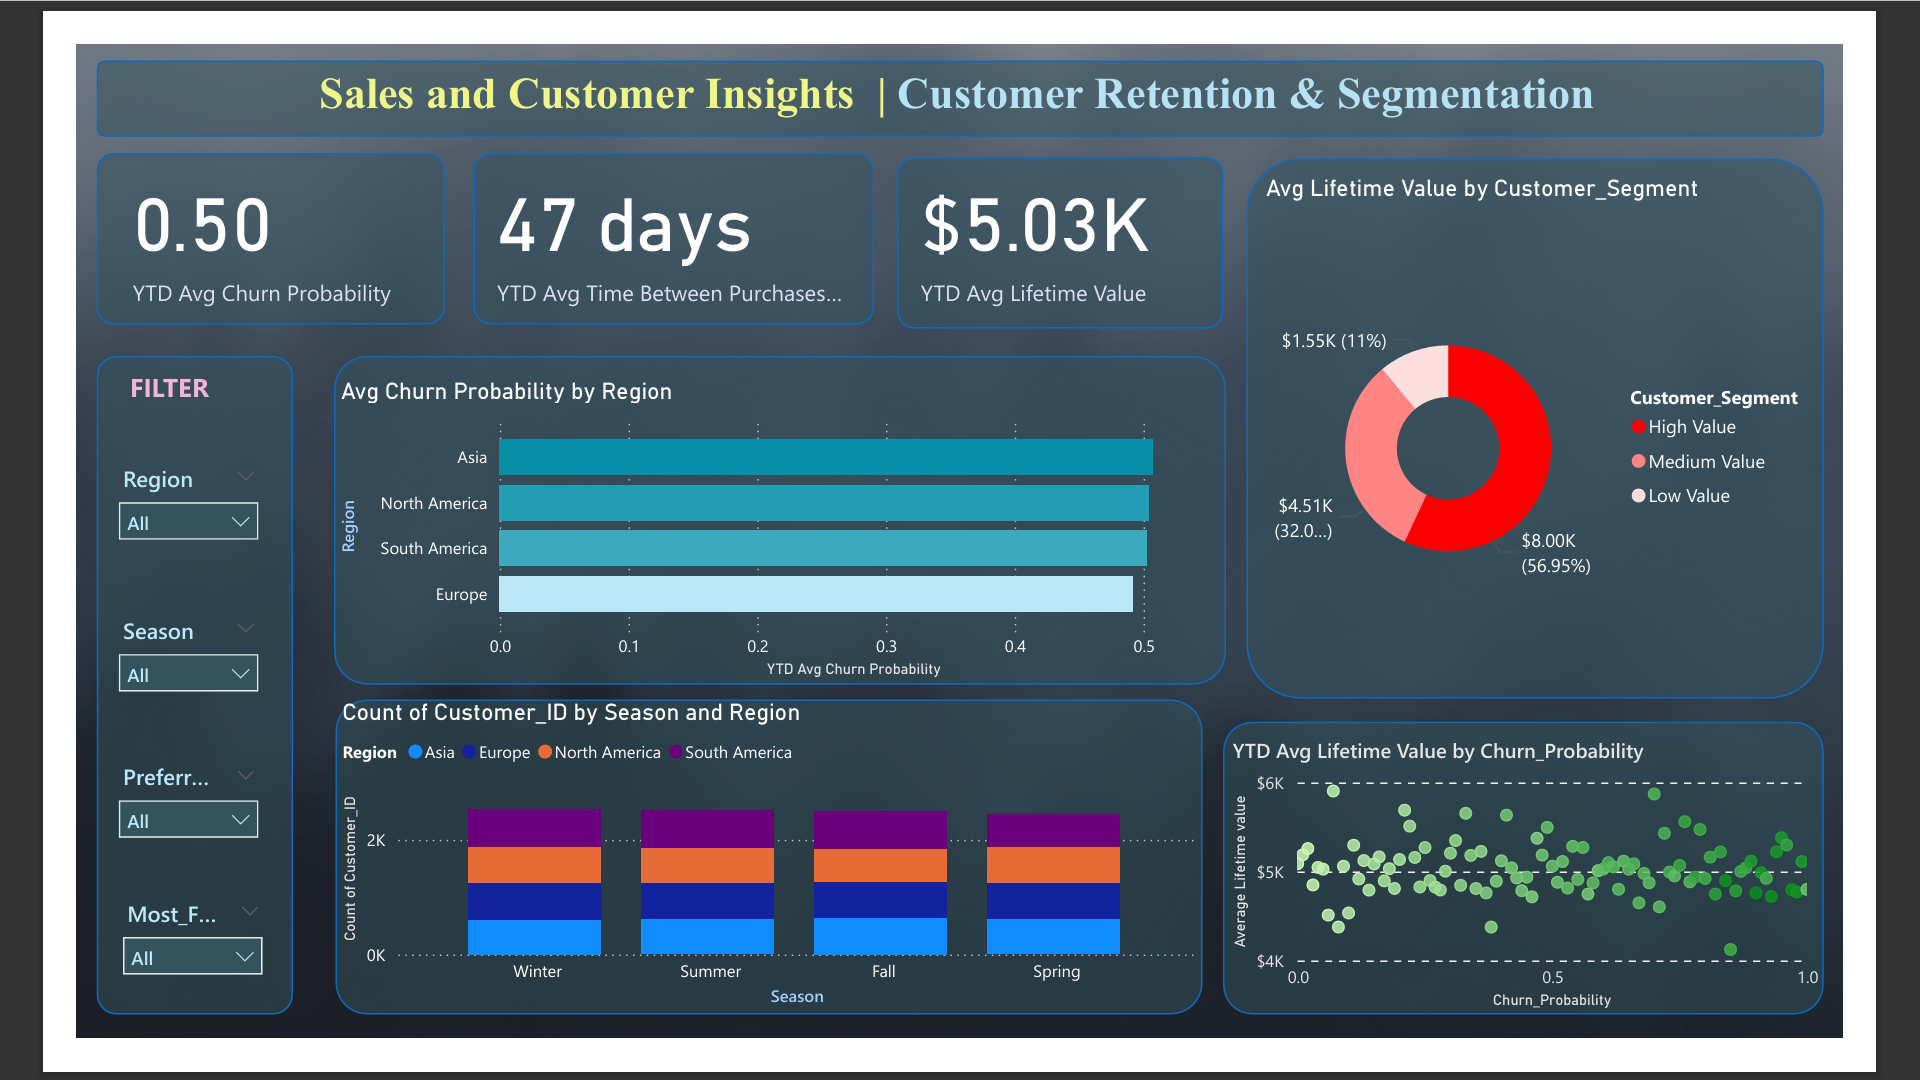

The page's visual inventory and layout, read from the dashboard file:
{"tool":"powerbi","page":{"name":"Page 2","canvas":[1280,720],"ordinal":1},"visuals":[{"type":"shape","box":[15.1,12.1,1250.7,54.5],"z":0},{"type":"shape","box":[15.1,225.6,142.3,477],"z":1000},{"type":"textbox","box":[171.1,12.1,961.5,54.5],"z":2000},{"type":"shape","box":[15.1,78.7,251.4,124.2],"z":3000},{"type":"shape","box":[187.1,225.7,645.7,238.6],"z":4000},{"type":"shape","box":[287.7,78.7,290.7,124.2],"z":5000},{"type":"shape","box":[595.1,81.8,236.2,124.2],"z":6000},{"type":"shape","box":[848,83.3,417.9,390.7],"z":7000},{"type":"cardVisual","fields":{"Data":["sales_and_customer_insights.YTD Avg Churn Probability"]},"box":[24.2,83.3,231.7,116.6],"z":8000},{"type":"cardVisual","fields":{"Data":["sales_and_customer_insights.YTD Avg Time Between Purchases"]},"box":[287.7,83.3,290.7,121.1],"z":9000},{"type":"shape","box":[831.3,490.6,434.6,212],"z":10000},{"type":"cardVisual","fields":{"Data":["sales_and_customer_insights.YTD Avg Lifetime Value"]},"box":[595.1,83.3,236.2,121.1],"z":11000},{"type":"clusteredBarChart","title":" Avg Churn Probability by Region","fields":{"Category":["sales_and_customer_insights.Region"],"Y":["sales_and_customer_insights.YTD Avg Churn Probability"]},"box":[187.1,241.4,645.7,222.9],"z":11500},{"type":"donutChart","title":"Avg Lifetime Value by Customer_Segment","fields":{"Category":["sales_and_customer_insights.Customer_Segment"],"Y":["sales_and_customer_insights.YTD Avg Lifetime Value"]},"box":[857.1,94.3,401.4,378.6],"z":12000},{"type":"scatterChart","fields":{"X":["sales_and_customer_insights.Churn_Probability"],"Y":["sales_and_customer_insights.YTD Avg Lifetime Value"]},"box":[832.8,501.2,434.6,201.4],"z":14000},{"type":"shape","box":[187.8,475.5,628.4,227.1],"z":14500},{"type":"group","id":"g1","title":"Group 1","box":[21.2,231.3,124.2,448.4],"z":15000},{"type":"slicer","fields":{"Values":["sales_and_customer_insights.Region"]},"box":[21.2,299.3,121.3,65.8],"z":16000,"group":"g1"},{"type":"columnChart","fields":{"Y":["Count(sales_and_customer_insights.Customer_ID)"],"Category":["sales_and_customer_insights.Season"],"Series":["sales_and_customer_insights.Region"]},"box":[187.8,473.9,628.4,228.6],"z":16000},{"type":"textbox","box":[34.5,231.3,80.3,45.4],"z":17000,"group":"g1"},{"type":"slicer","fields":{"Values":["sales_and_customer_insights.Season"]},"box":[21.2,409.7,121.3,65.8],"z":18000,"group":"g1"},{"type":"slicer","fields":{"Values":["sales_and_customer_insights.Preferred_Purchase_Times"]},"box":[21.2,515.3,121.3,65.8],"z":19000,"group":"g1"},{"type":"slicer","fields":{"Values":["sales_and_customer_insights.Most_Frequent_Category"]},"box":[24.1,614,121.3,65.8],"z":20000,"group":"g1"}]}

Visuals, with their boxes in screenshot pixels (x1, y1, x2, y2), scaled from the page's 1280x720 canvas onto the 1920x1080 screenshot:
shape: (23, 18, 1899, 100)
shape: (23, 338, 236, 1054)
textbox: (257, 18, 1699, 100)
shape: (23, 118, 400, 304)
shape: (281, 339, 1249, 696)
shape: (432, 118, 868, 304)
shape: (893, 123, 1247, 309)
shape: (1272, 125, 1899, 711)
cardVisual - sales_and_customer_insights.YTD Avg Churn Probability: (36, 125, 384, 300)
cardVisual - sales_and_customer_insights.YTD Avg Time Between Purchases: (432, 125, 868, 307)
shape: (1247, 736, 1899, 1054)
cardVisual - sales_and_customer_insights.YTD Avg Lifetime Value: (893, 125, 1247, 307)
" Avg Churn Probability by Region" clusteredBarChart: (281, 362, 1249, 696)
"Avg Lifetime Value by Customer_Segment" donutChart: (1286, 141, 1888, 709)
scatterChart - sales_and_customer_insights.Churn_Probability x sales_and_customer_insights.YTD Avg Lifetime Value: (1249, 752, 1901, 1054)
shape: (282, 713, 1224, 1054)
"Group 1" group: (32, 347, 218, 1020)
slicer - sales_and_customer_insights.Region: (32, 449, 214, 548)
columnChart - Count(sales_and_customer_insights.Customer_ID) x sales_and_customer_insights.Season: (282, 711, 1224, 1054)
textbox: (52, 347, 172, 415)
slicer - sales_and_customer_insights.Season: (32, 615, 214, 713)
slicer - sales_and_customer_insights.Preferred_Purchase_Times: (32, 773, 214, 872)
slicer - sales_and_customer_insights.Most_Frequent_Category: (36, 921, 218, 1020)
